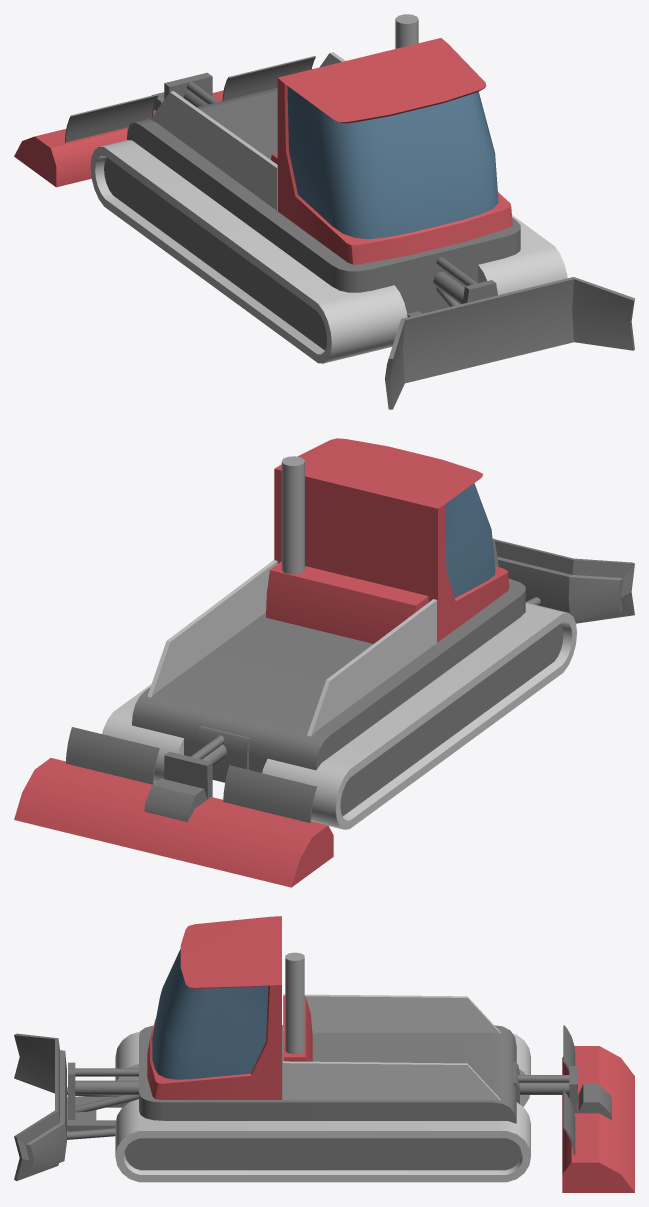
The model's file is Bully.glb.
3 views of the same model, one above another, from view 1: azimuth 30°, elevation 25°; view 2: azimuth 150°, elevation 25°; view 3: azimuth 270°, elevation 25° (orthographic). The views are drawn at different scales.
Parts seen in each view (by area): view 1: Box006, Box008, Object004, Box001, Cylinder010; view 2: Box006, Box001, Box008, Object004, Cylinder010; view 3: Box006, Box008, Box001, Object004, Cylinder010.
Part boxes in pixels (<box>): Box006: <box>64,56,634,409</box>; Box008: <box>90,52,567,363</box>; Object004: <box>287,86,498,239</box>; Box001: <box>14,38,512,264</box>; Cylinder010: <box>395,14,418,48</box>; Box006: <box>65,538,634,822</box>; Box001: <box>14,438,509,887</box>; Box008: <box>102,560,576,829</box>; Object004: <box>445,483,495,598</box>; Cylinder010: <box>281,456,304,574</box>; Box006: <box>14,1025,611,1181</box>; Box008: <box>115,994,530,1182</box>; Box001: <box>147,916,634,1192</box>; Object004: <box>152,949,268,1079</box>; Cylinder010: <box>285,952,304,1054</box>.
Size of the model in its own units: 3.51 by 2.83 by 7.91.
